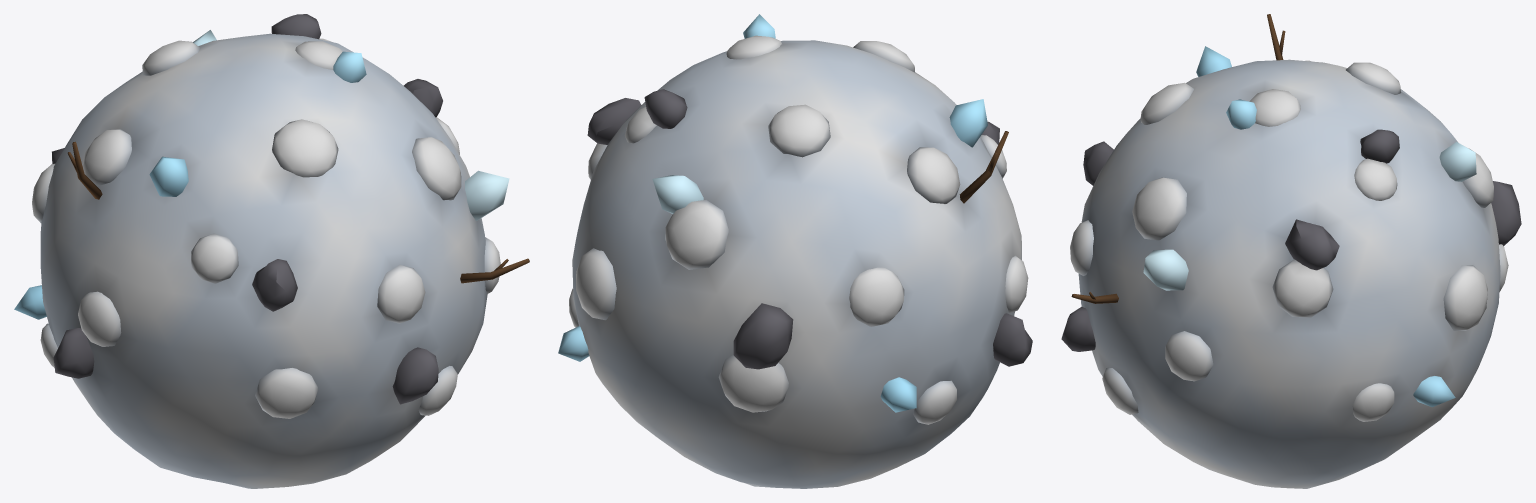
The model's file is boulder_snow.glb.
The picture shows the model from 3 angles, left to right: view 1: azimuth 30°, elevation 25°; view 2: azimuth 150°, elevation 25°; view 3: azimuth 270°, elevation 25°; orthographic projection. The views are drawn at different scales.
Visible parts, largest first — view 1: shell; view 2: shell; view 3: shell.
Boxes of the visible parts, left/top/right/bottom form: shell: left=14, top=14, right=529, bottom=488; shell: left=558, top=14, right=1032, bottom=488; shell: left=1061, top=14, right=1521, bottom=488.
Size of the model in its own units: 1.92 by 1.84 by 1.94.
